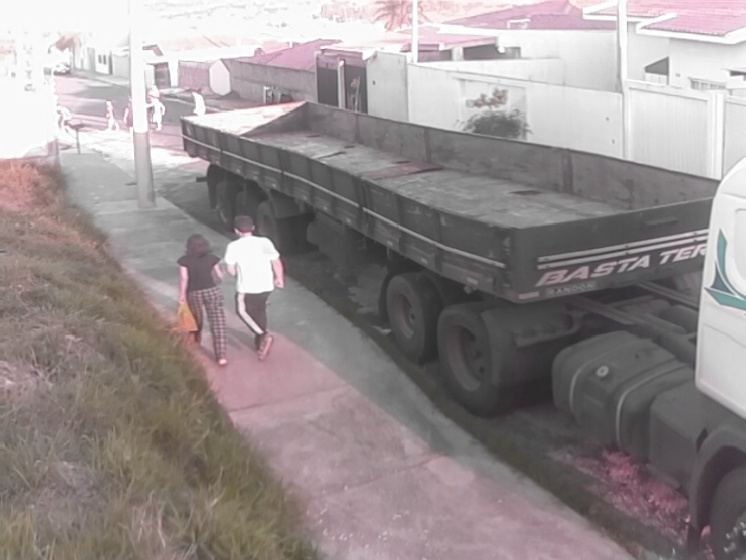person: (220, 214, 289, 364), (176, 233, 234, 366), (144, 95, 166, 134), (144, 83, 162, 124), (189, 87, 209, 118), (105, 98, 121, 133)
